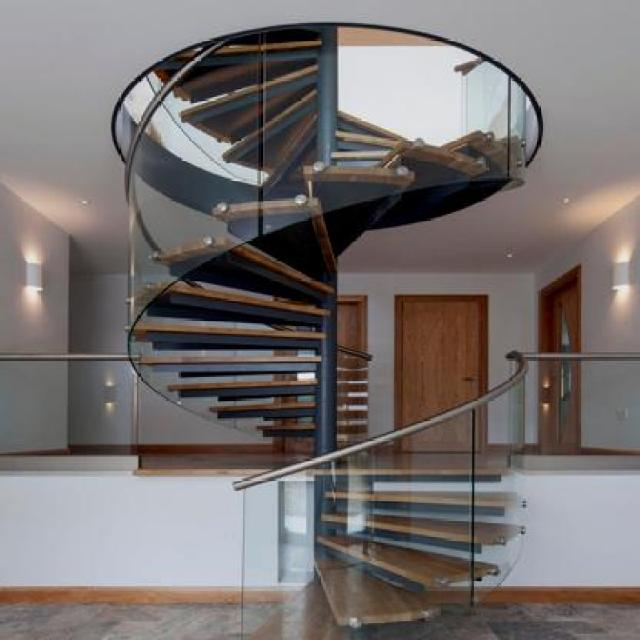stair: (112, 38, 546, 639)
